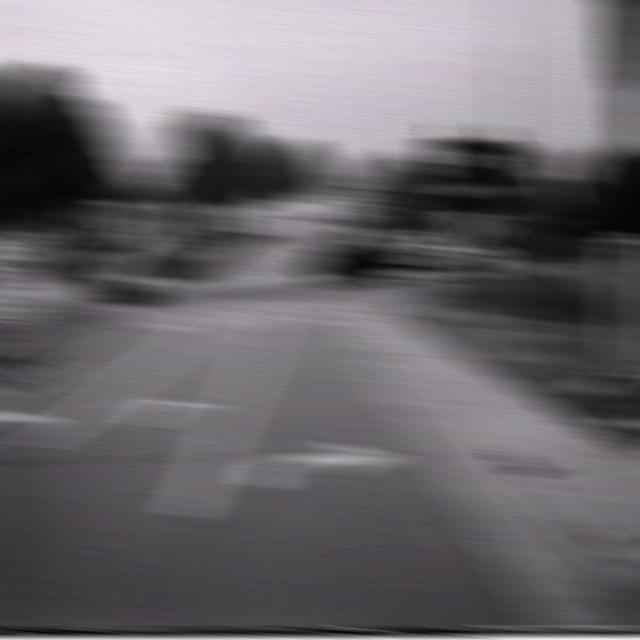stop: (78, 197, 114, 232), (391, 197, 427, 231)
